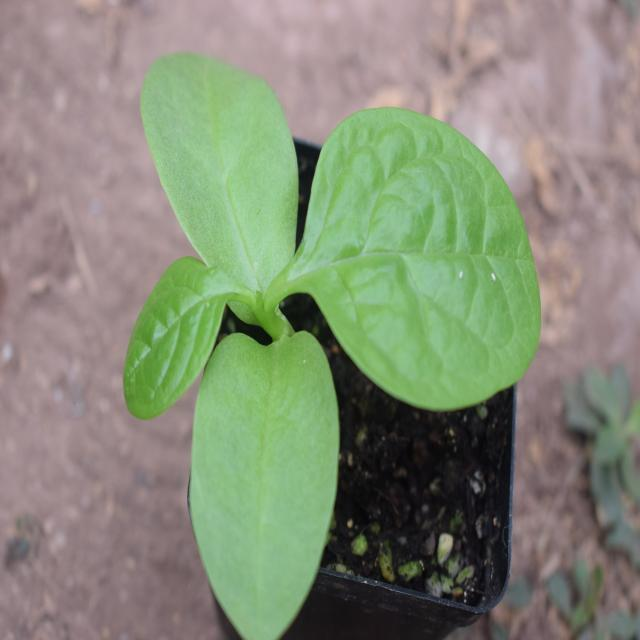Ceylon spinach: (144, 57, 546, 606)
